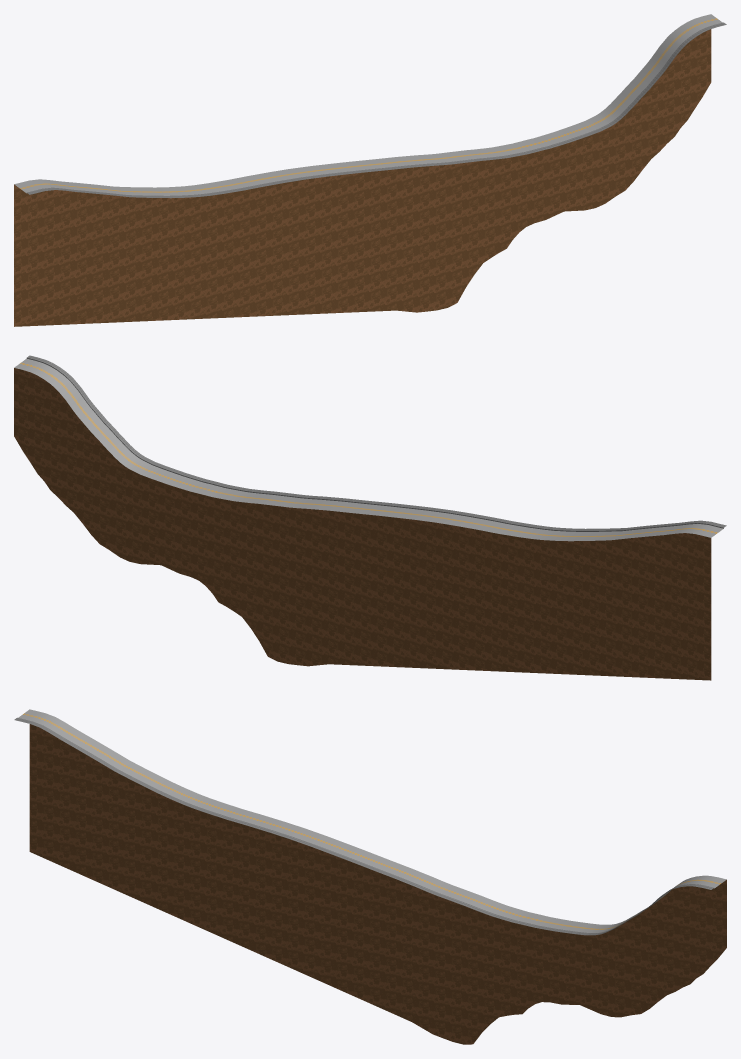
File: Terrain_04_slope.FBX
The picture shows the model from 3 angles, top to bottom: view 1: azimuth 30°, elevation 25°; view 2: azimuth 150°, elevation 25°; view 3: azimuth 330°, elevation 25°; orthographic projection.
Visible parts, largest first — view 1: Terrain_04_ground, Terrain_04; view 2: Terrain_04_ground, Terrain_04; view 3: Terrain_04_ground, Terrain_04.
Boxes of the visible parts, x1,y1,x2,y2 form: Terrain_04_ground: (14,29,711,326); Terrain_04: (14,14,726,198); Terrain_04_ground: (14,368,711,680); Terrain_04: (14,355,726,541); Terrain_04_ground: (29,724,726,1044); Terrain_04: (14,709,726,935).
Bounding box in the file's own units: 1280 × 404 × 50.
